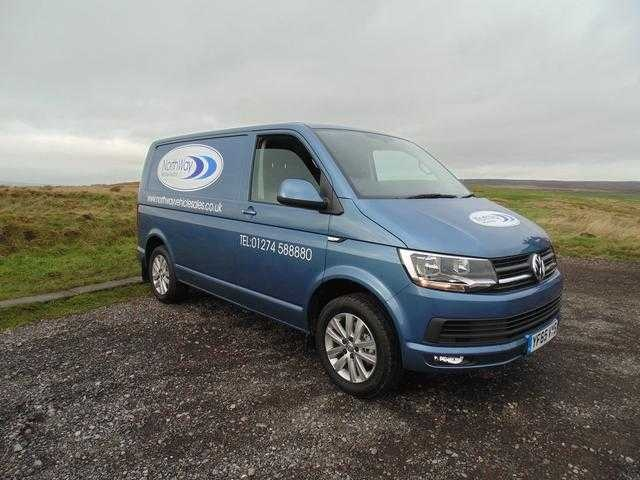van: (134, 121, 562, 398)
